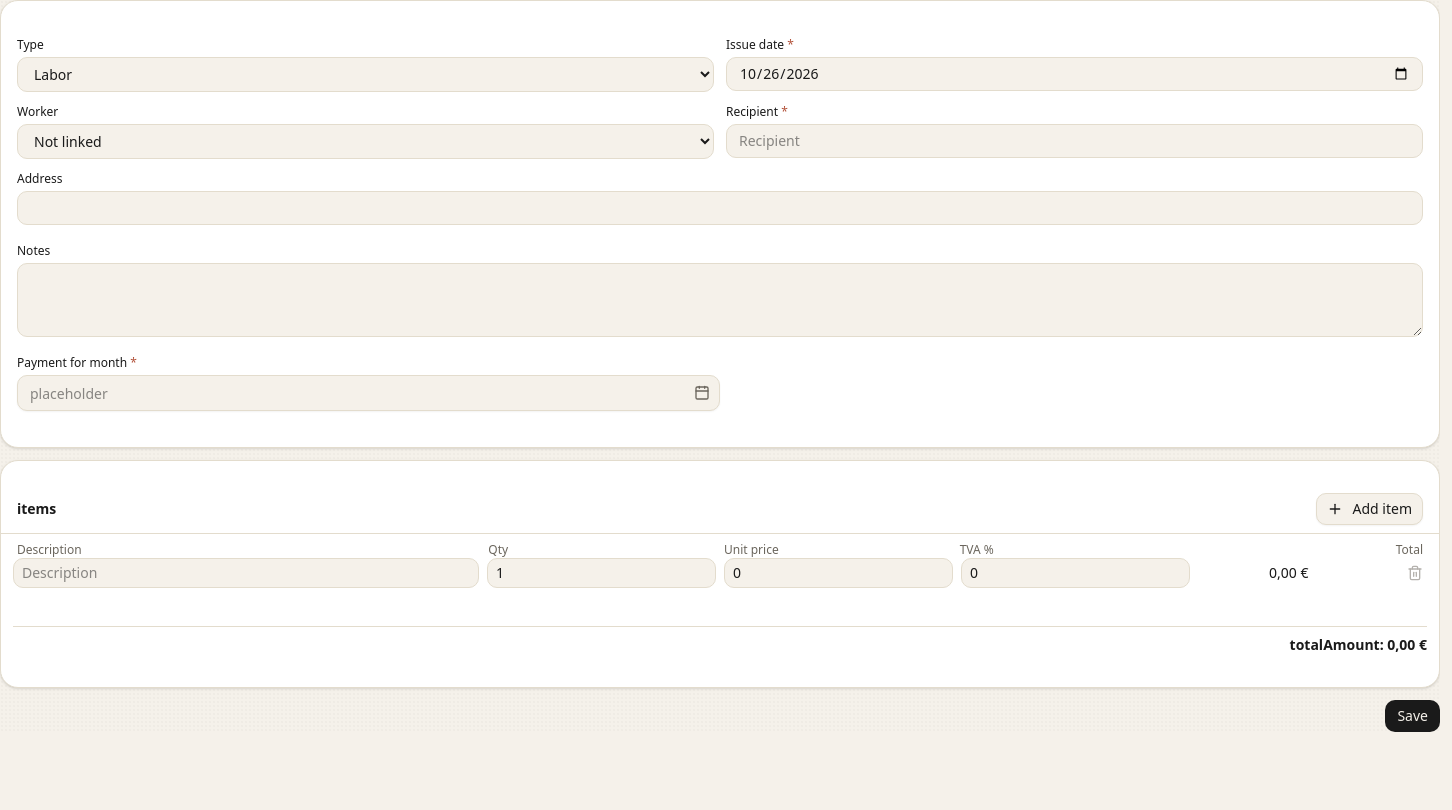
Scenario: InvoiceForm — service_month field › hides the month input after switching away from labor
Check: the field with test id "service-month-input" is shown, box left=17, top=375, right=720, bottom=411
Select "Others" in the dropdown labelled "Type": (366, 74) left=17, top=57, right=714, bottom=92
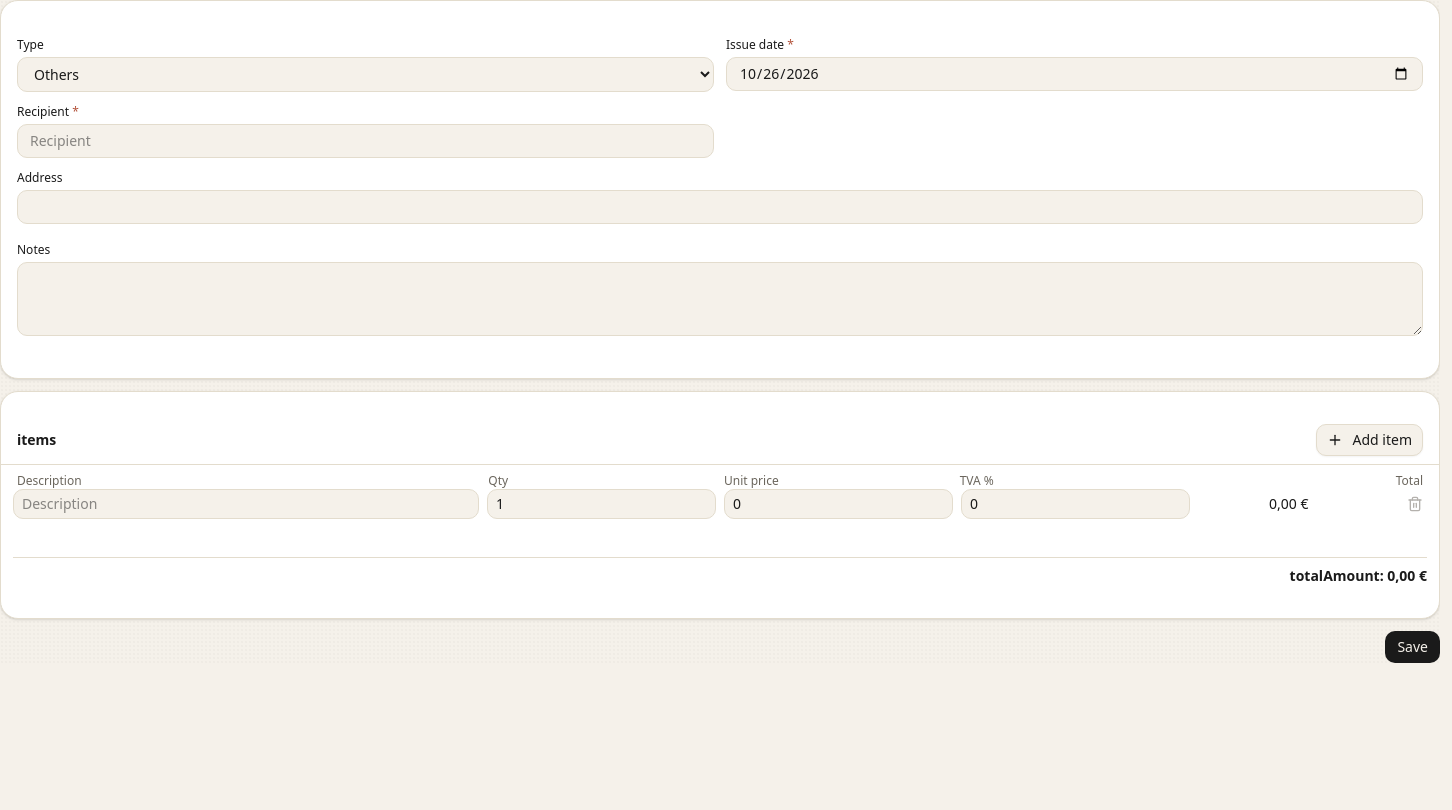
Check: the field with test id "service-month-input" is gone
